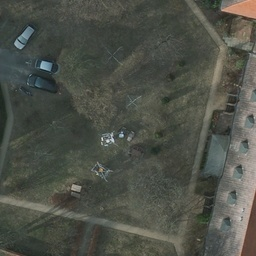car: (26, 75, 63, 98), (29, 58, 62, 75), (13, 24, 34, 50)
